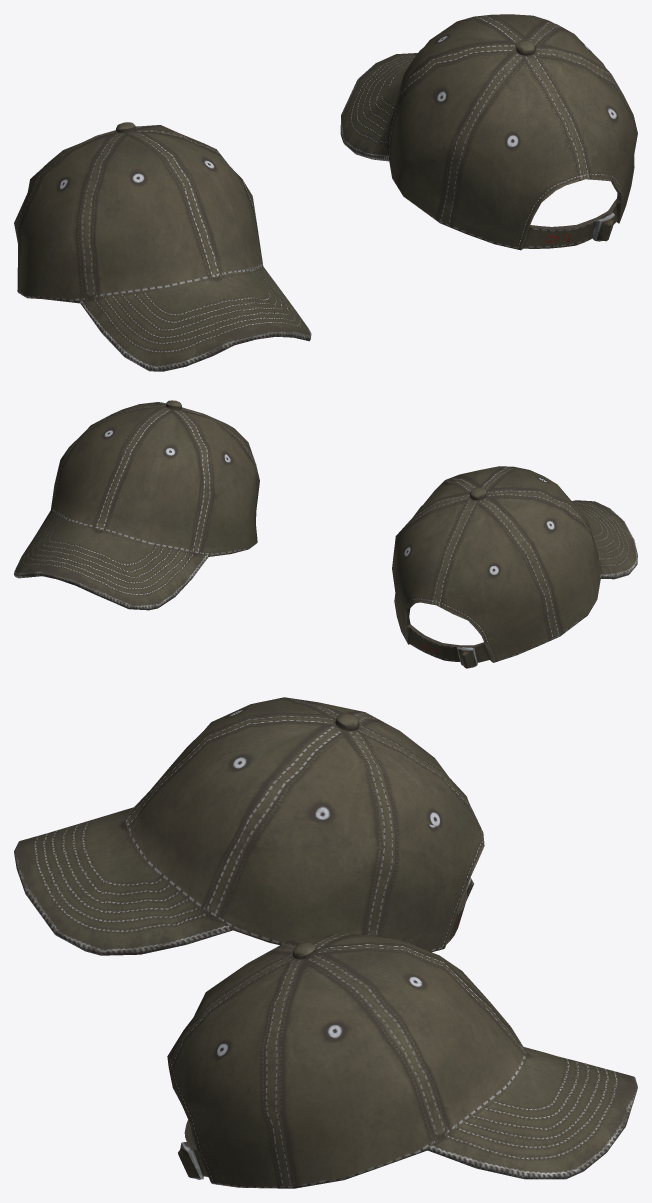
File: cap_5_mb.glb
3 views of the same model, one above another, from view 1: azimuth 30°, elevation 25°; view 2: azimuth 150°, elevation 25°; view 3: azimuth 270°, elevation 25° (orthographic). The views are drawn at different scales.
Parts seen in each view (by area): view 1: Cap, Cap_2; view 2: Cap, Cap_2; view 3: Cap, Cap_2.
Part boxes in pixels (x1=…): Cap: x1=340, y1=14, x2=637, y2=250; Cap_2: x1=14, y1=122, x2=311, y2=371; Cap: x1=14, y1=400, x2=259, y2=610; Cap_2: x1=392, y1=466, x2=637, y2=668; Cap: x1=167, y1=934, x2=637, y2=1188; Cap_2: x1=14, y1=697, x2=484, y2=955.
Bounding box in the file's own units: 104 × 28.09 × 74.29.
Materials: 1 (1 with a texture image).
